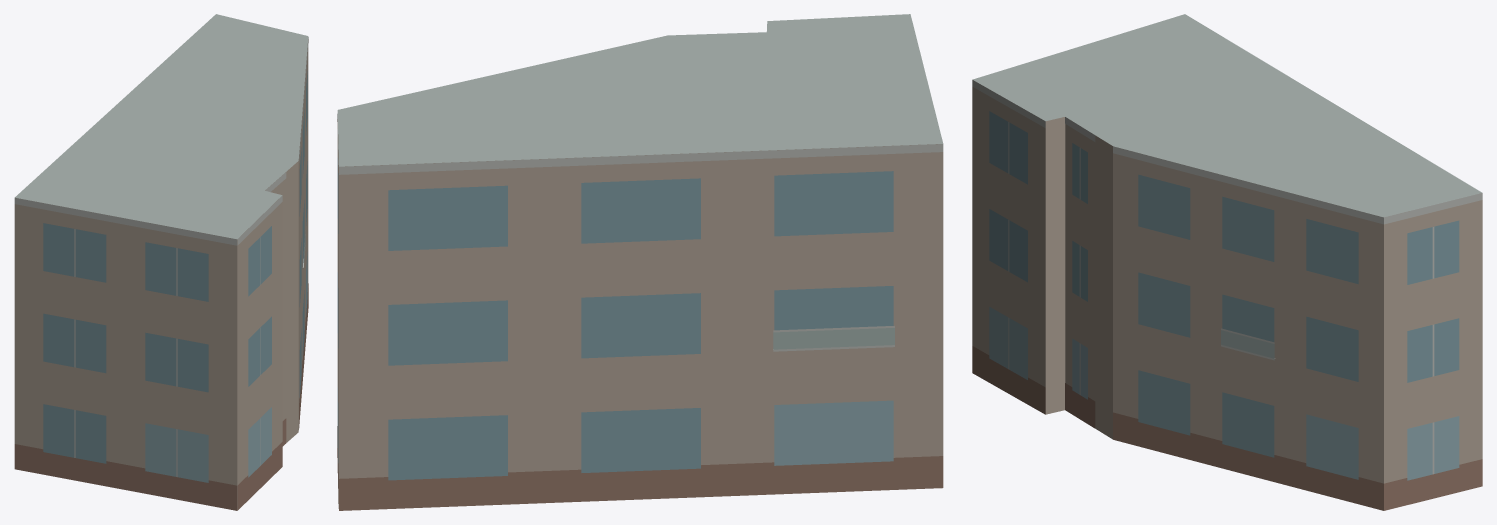
Rendered from survey-upis-32576408.glb.
3 renders of one model, left to right at view 1: azimuth 30°, elevation 25°; view 2: azimuth 150°, elevation 25°; view 3: azimuth 270°, elevation 25°, orthographic. The views are drawn at different scales.
Parts seen in each view (by area): view 1: survey-upis-32576408.tmp; view 2: survey-upis-32576408.tmp; view 3: survey-upis-32576408.tmp.
Boxes of the visible parts, bbox=[...] form: survey-upis-32576408.tmp: bbox=[14, 14, 308, 510]; survey-upis-32576408.tmp: bbox=[337, 14, 943, 510]; survey-upis-32576408.tmp: bbox=[972, 14, 1482, 510].
Bounding box in the file's own units: 15.25 × 10.25 × 16.17.
